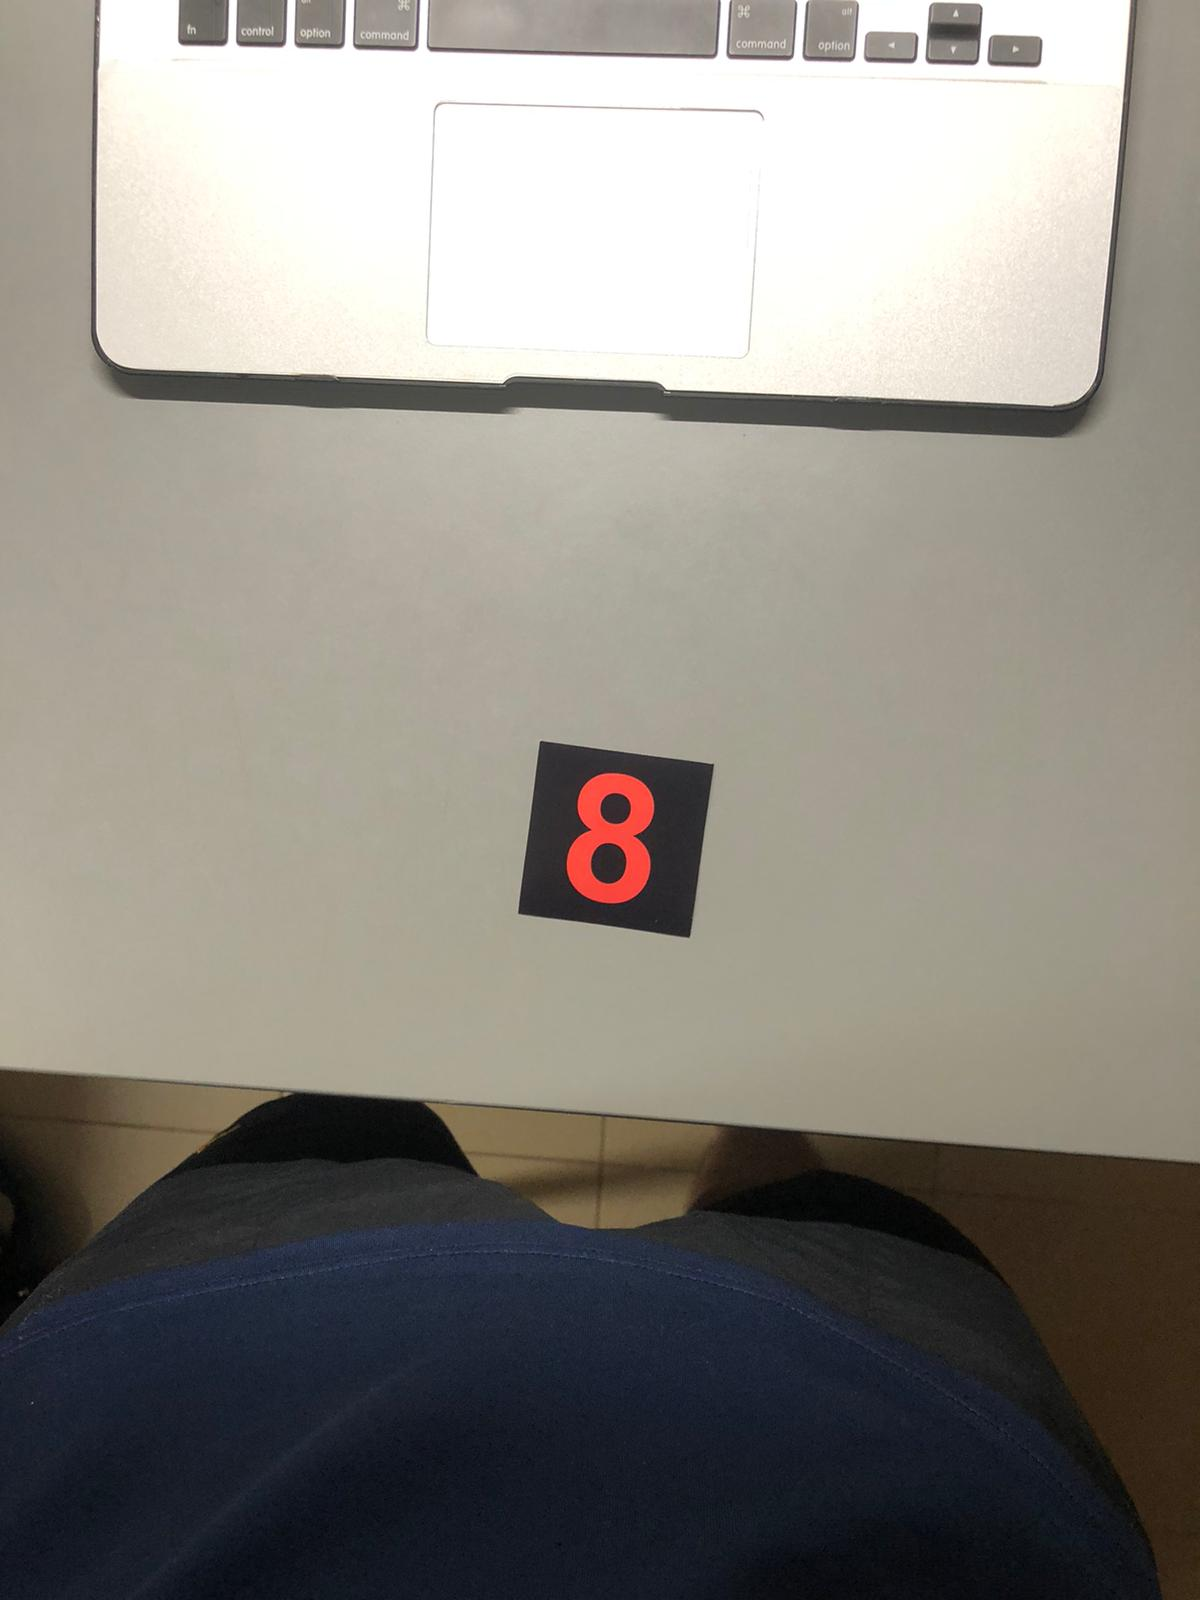Number 8: (534, 743, 691, 929)
